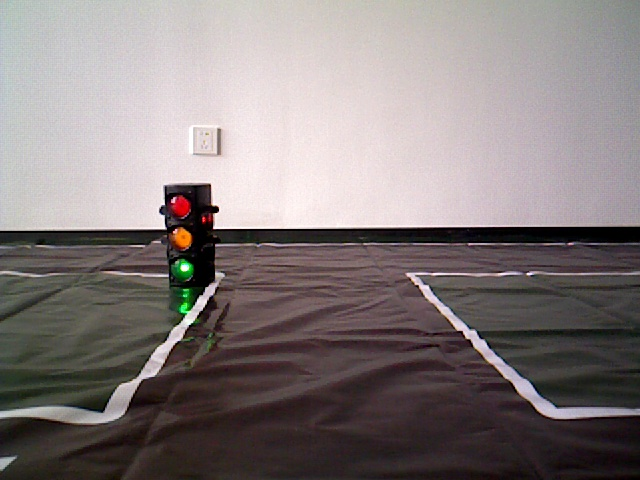green: (163, 191, 212, 278)
